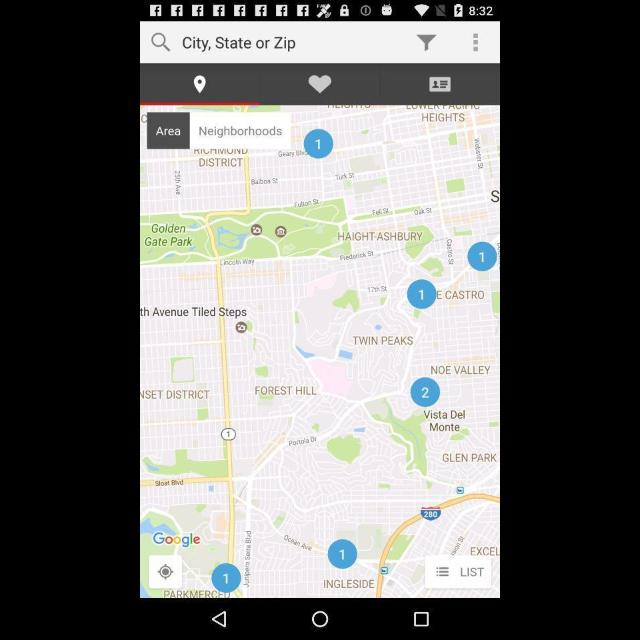icon: (308, 74, 332, 94), (152, 32, 172, 54), (429, 76, 451, 92), (417, 34, 437, 51), (212, 611, 228, 629), (312, 611, 328, 627), (193, 76, 207, 94), (414, 611, 428, 627), (159, 564, 173, 580), (472, 32, 480, 54)
map: (141, 105, 499, 597)
multitab: (140, 64, 500, 104)
panel: (141, 599, 499, 639)
text: (182, 36, 296, 52)
toolbar: (140, 22, 498, 62)
uppertaskbar: (140, 1, 500, 22)
